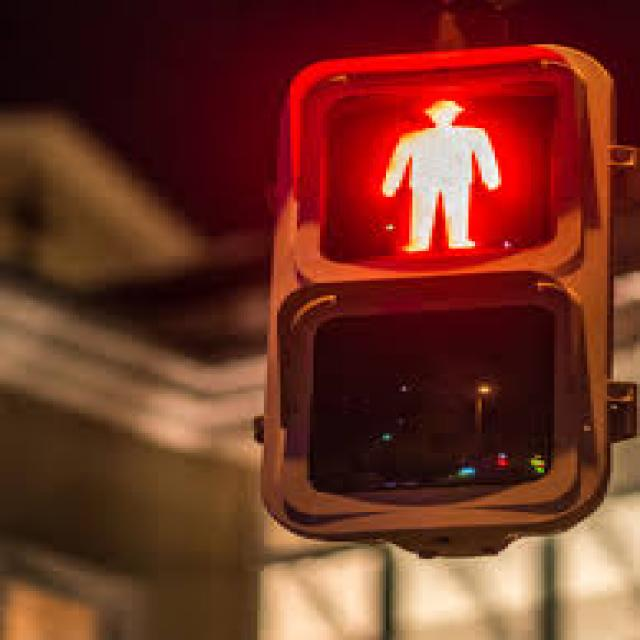Not go: (282, 60, 609, 532), (283, 59, 634, 304)
